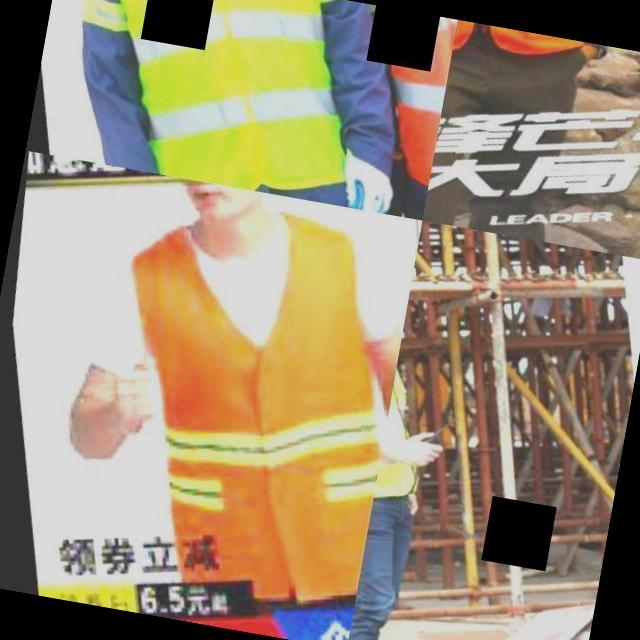vest: (69, 172, 422, 628), (46, 0, 371, 205), (296, 0, 457, 203), (371, 320, 438, 514)
